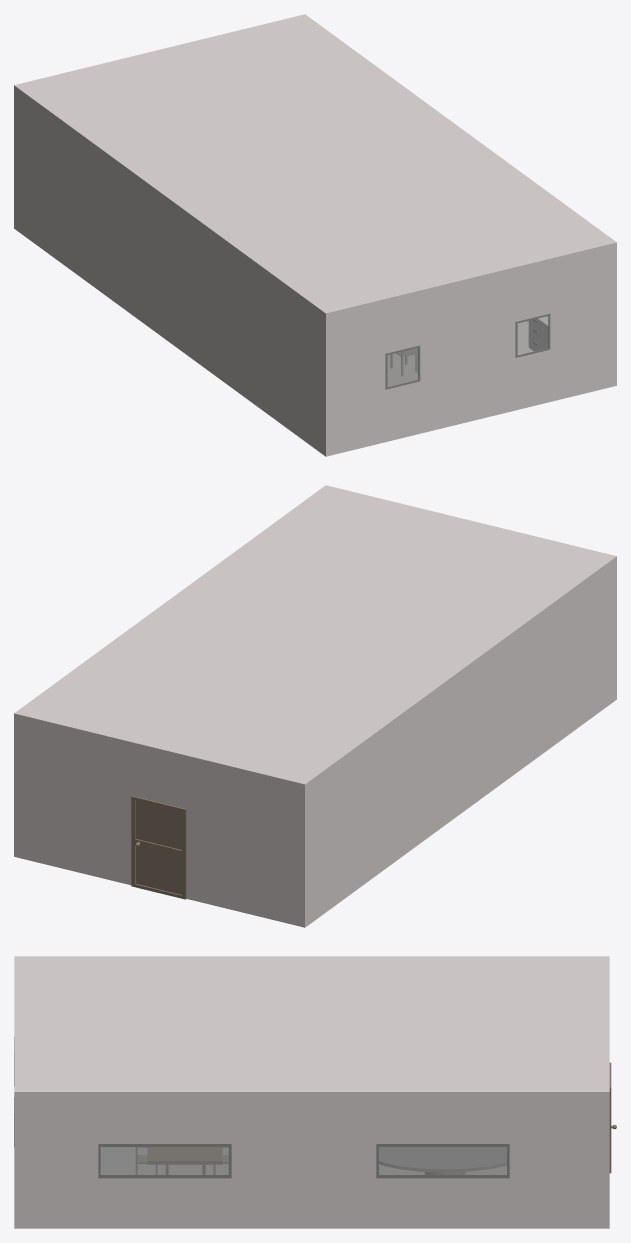
The model's file is House_Inside.fbx.
3 views of the same model, one above another, from view 1: azimuth 30°, elevation 25°; view 2: azimuth 150°, elevation 25°; view 3: azimuth 270°, elevation 25° (orthographic). The views are drawn at different scales.
Visible parts, largest first — view 1: House, Window2, Window1; view 2: House, Door; view 3: House, Window_Long, Window_Long2, pCylinder13, Top.
Part boxes in pixels (x1=…): House: x1=14, y1=14, x2=616, y2=456; Window2: x1=515, y1=313, x2=550, y2=357; Window1: x1=385, y1=345, x2=420, y2=389; House: x1=14, y1=485, x2=616, y2=927; Door: x1=131, y1=796, x2=186, y2=899; House: x1=14, y1=956, x2=609, y2=1228; Window_Long: x1=98, y1=1144, x2=231, y2=1178; Window_Long2: x1=376, y1=1144, x2=509, y2=1178; pCylinder13: x1=379, y1=1147, x2=506, y2=1171; Top: x1=147, y1=1147, x2=222, y2=1164.
Bounding box in the file's own units: 8.51 × 4.01 × 15.99.
